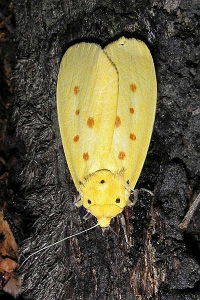Agape chloropyga: (14, 31, 165, 269)
moth: (16, 33, 167, 271)
